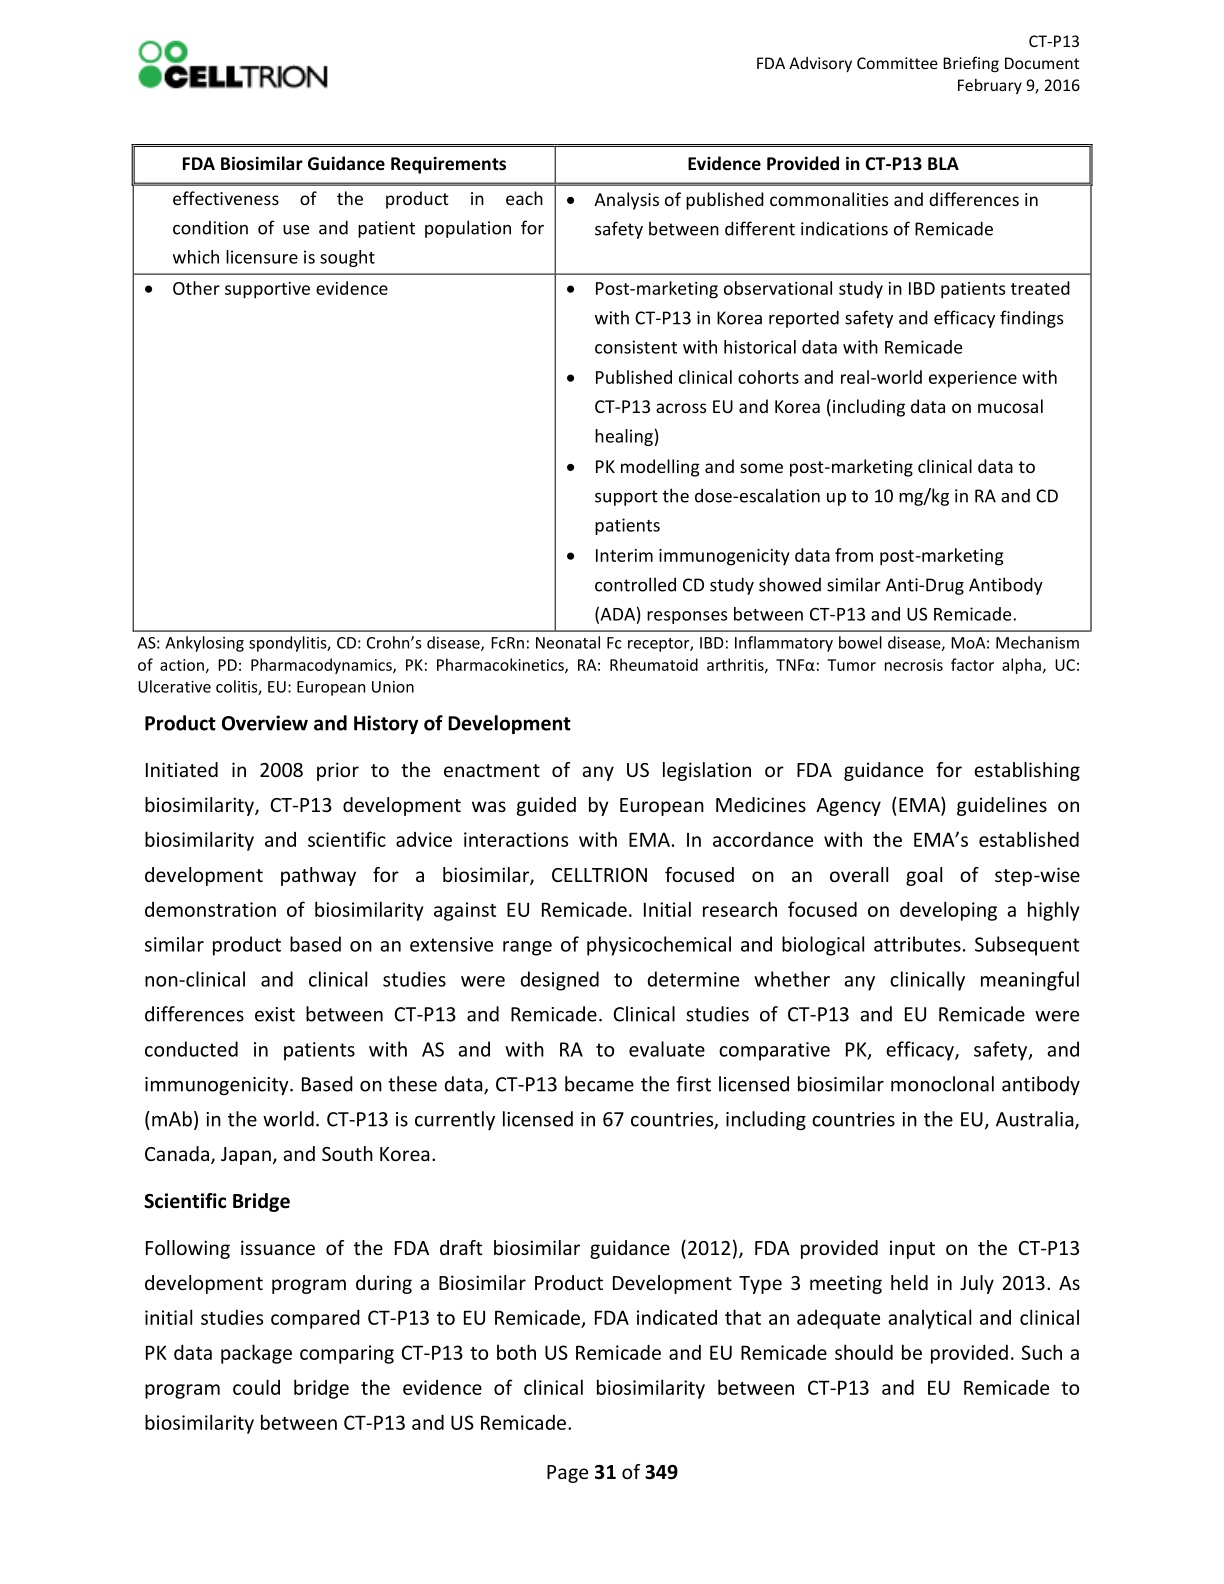full_lined: (131, 143, 1093, 633)
